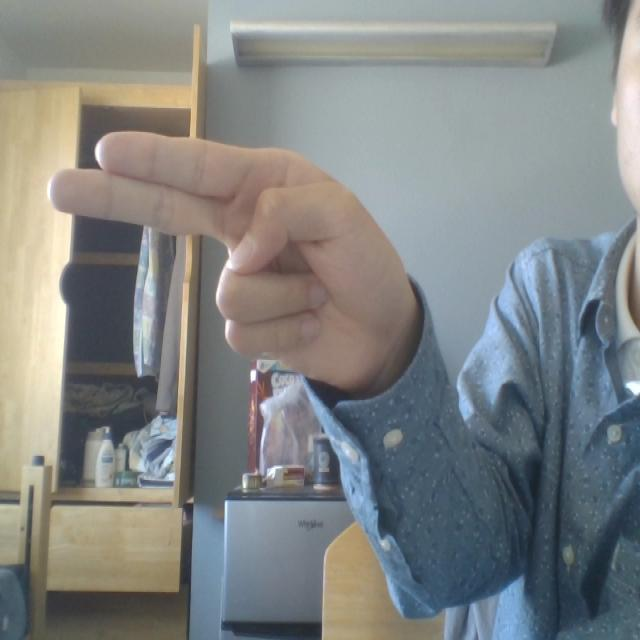H: (32, 84, 492, 444)
